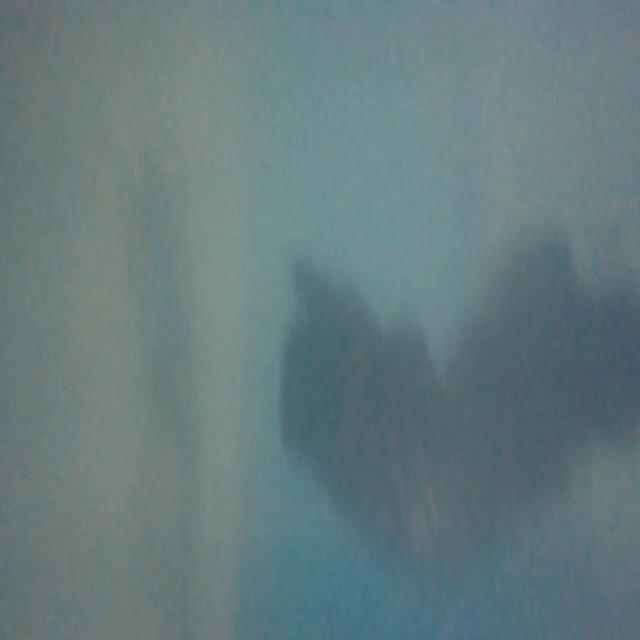plastic bags: (265, 247, 638, 568)
